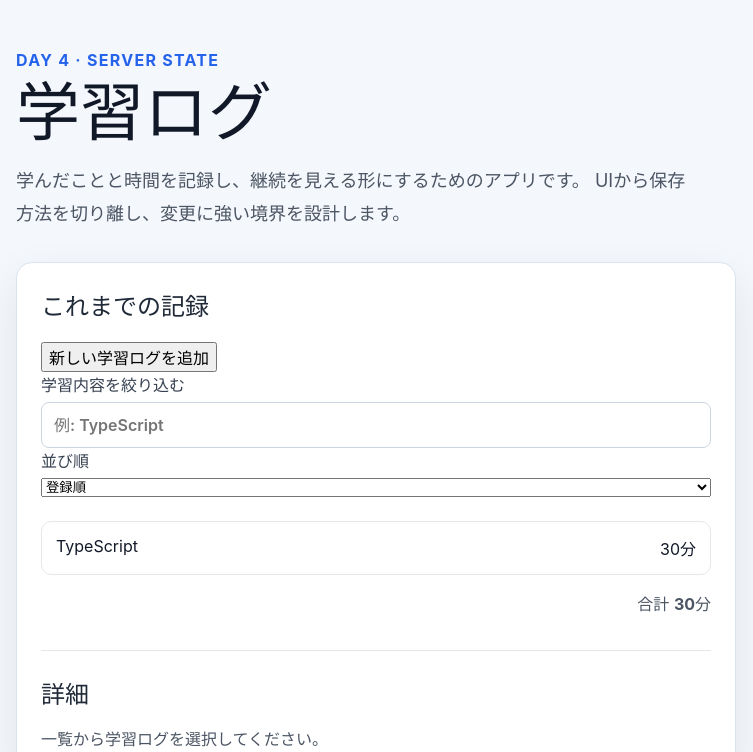
Test case: StudyLogPage › 保存に失敗したら入力値を残してエラーを表示する
The width and height of the screenshot is (753, 752).
Click the button "TypeScript 30分".
click(97, 546)  # box top-left (41, 521), bottom-right (711, 575)
(page scrolled)
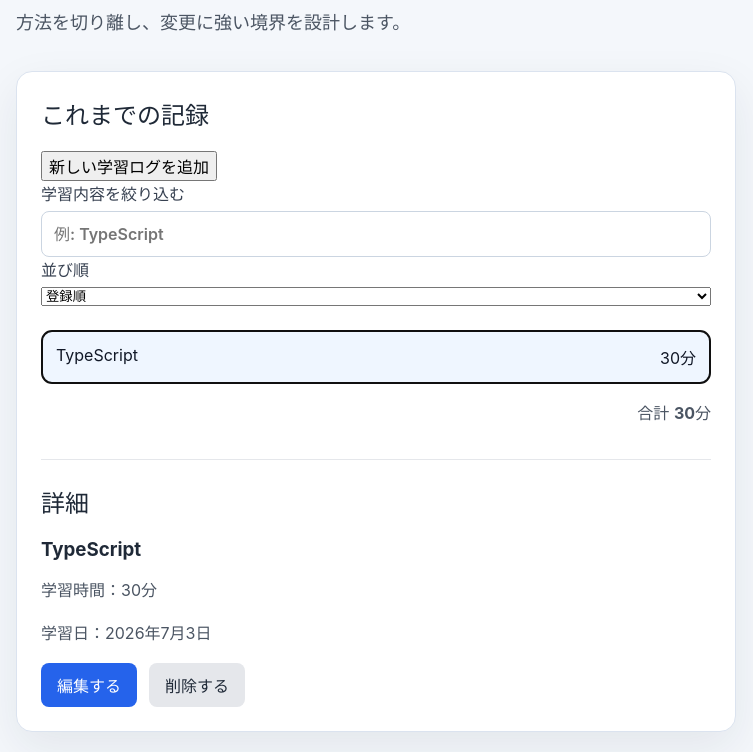
Click the button "編集する".
click(89, 685)  # box top-left (41, 663), bottom-right (137, 707)
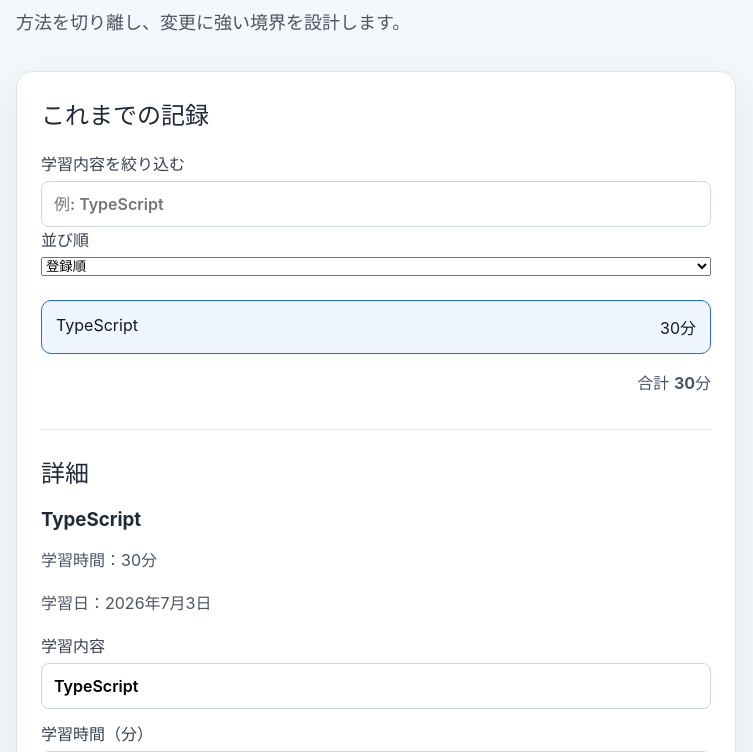
Replace the text in the field labelled "学習内容" with "型モデリング" at (376, 686), box top-left (41, 663), bottom-right (711, 709)
(page scrolled)
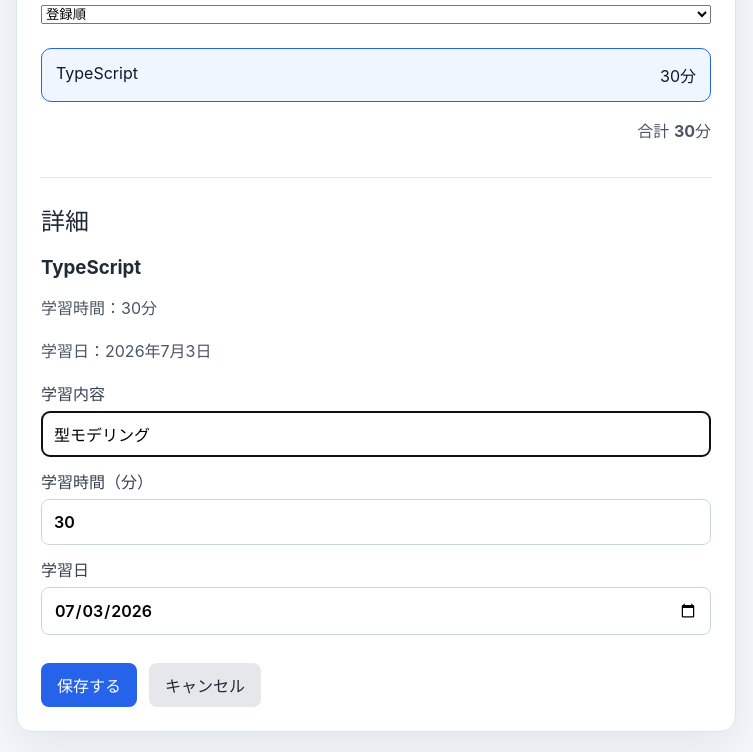
Click the button "保存する".
click(89, 685)  # box top-left (41, 663), bottom-right (137, 707)
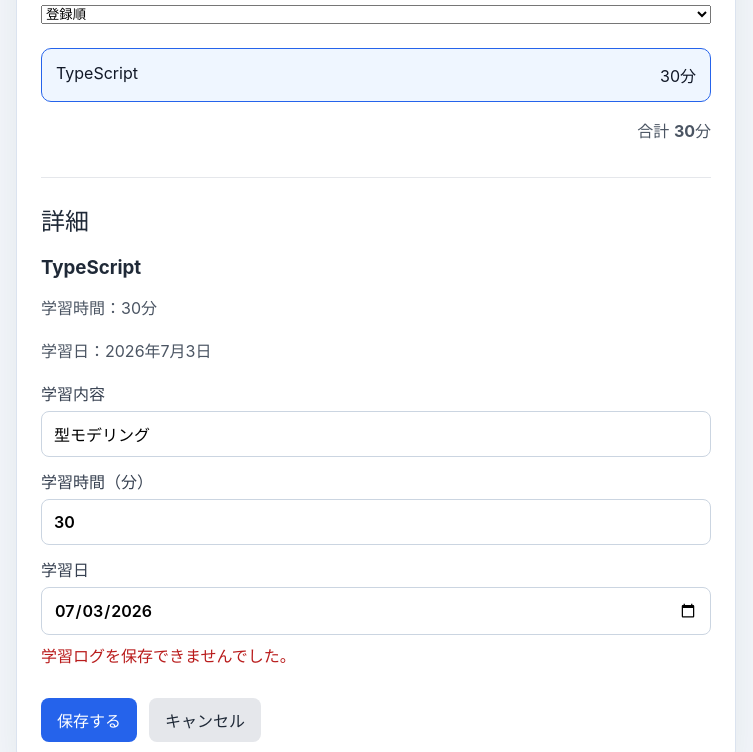
Result: the message reads "学習ログを保存できませんでした。" at top-left (41, 646), bottom-right (296, 666)
